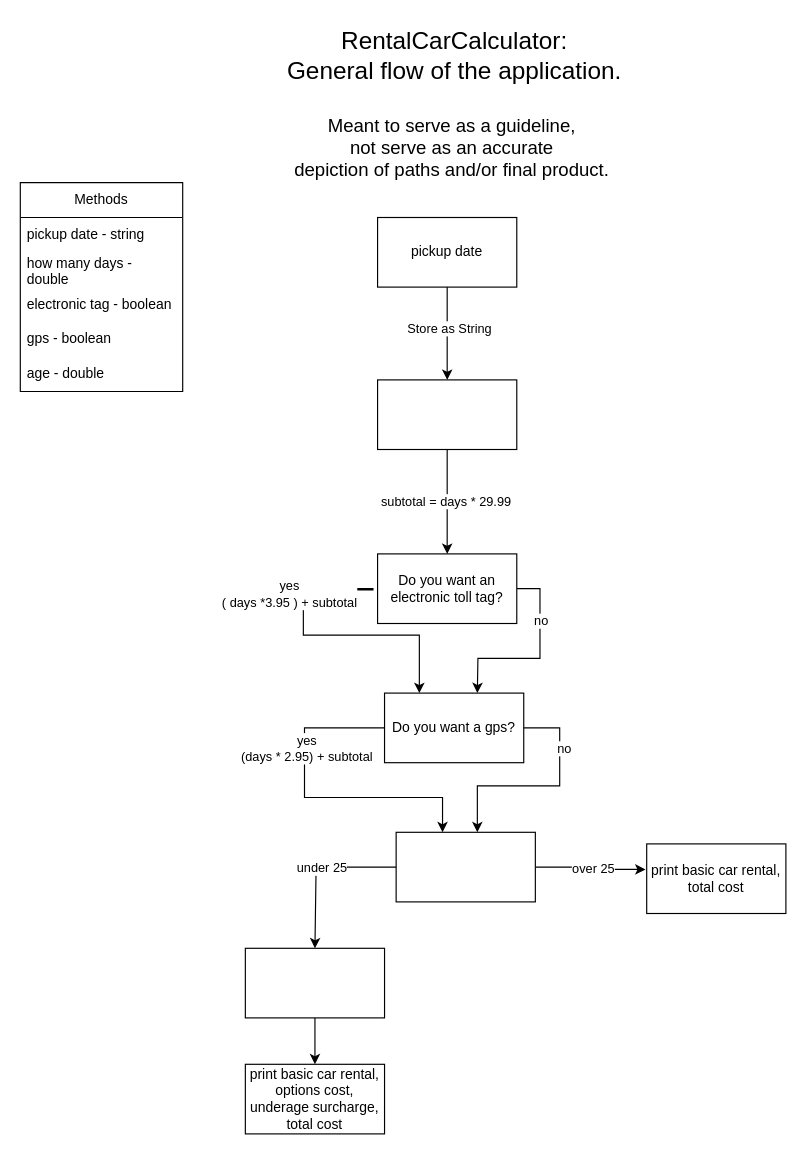
Some shapes in this 806 by 1154 pixel diagram are drawn without their labels. Each missing label, with the box of its shape:
How many days are you renting for?: (376, 379, 517, 449)
underageSurcharge = days + (days * .3): (244, 947, 385, 1018)
What is your age: (395, 831, 535, 902)
